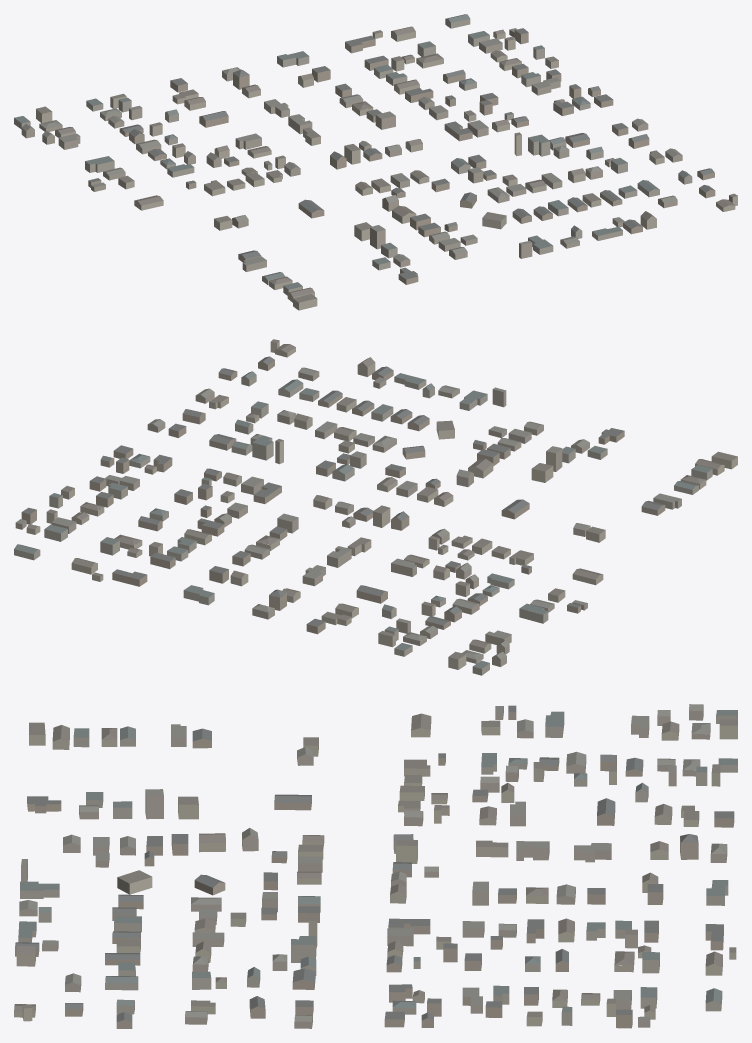
File: 2ef00387385b-chunk-1198_11844.glb
3 renders of one model, top to bottom at view 1: azimuth 30°, elevation 25°; view 2: azimuth 150°, elevation 25°; view 3: azimuth 270°, elevation 25°, orthographic. The views are drawn at different scales.
Parts seen in each view (by area): view 1: no part large enough to name; view 2: no part large enough to name; view 3: building_28488, building_74666, building_107420, building_136148, building_16216, building_33777, building_86394, building_60888, building_60054.
Part boxes in pixels (<box>): building_28488: <box>20,881,59,898</box>; building_74666: <box>117,870,152,894</box>; building_107420: <box>574,843,611,862</box>; building_136148: <box>516,841,549,860</box>; building_16216: <box>274,794,311,810</box>; building_33777: <box>291,936,316,962</box>; building_86394: <box>145,789,163,819</box>; building_60888: <box>476,840,508,857</box>; building_60054: <box>388,918,430,934</box>.
Bounding box in the file's own units: 385 × 15.75 × 372.
